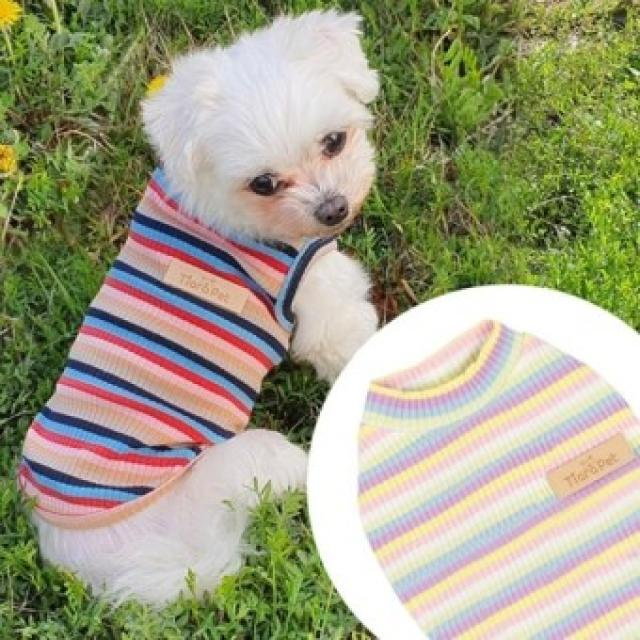cloth: (20, 173, 335, 527)
